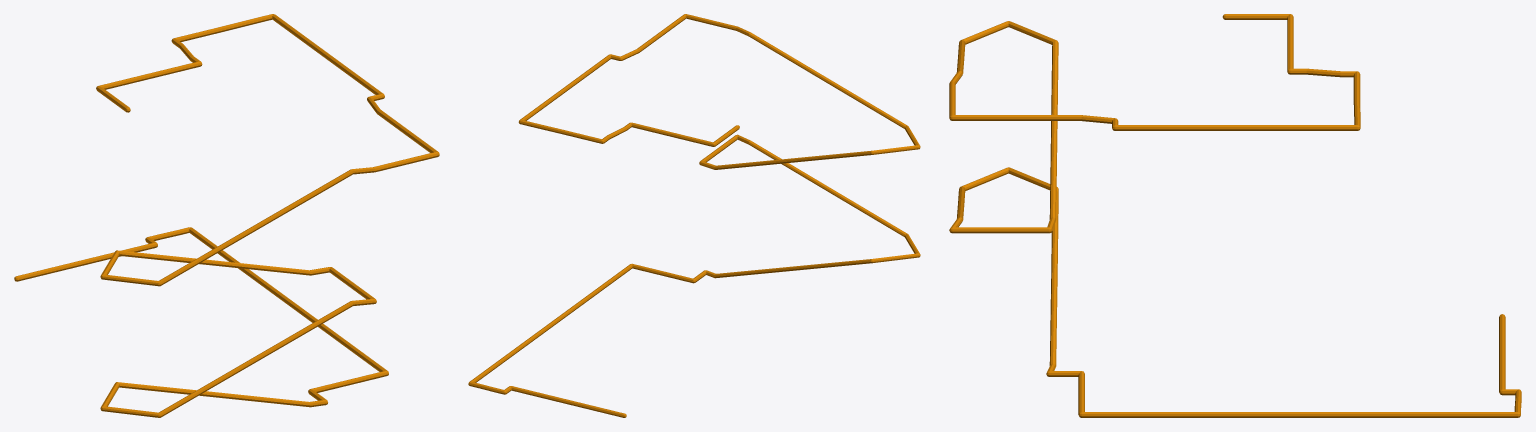
3 renders of one model, left to right at view 1: azimuth 30°, elevation 25°; view 2: azimuth 150°, elevation 25°; view 3: azimuth 270°, elevation 25°, orthographic. The views are drawn at different scales.
Bounding box in the file's own units: 1319 × 1020 × 1772.
